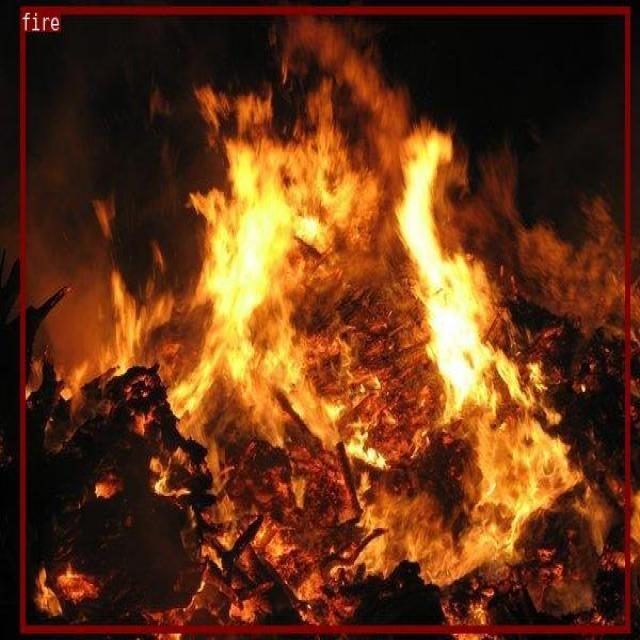fire: (20, 5, 629, 632)
